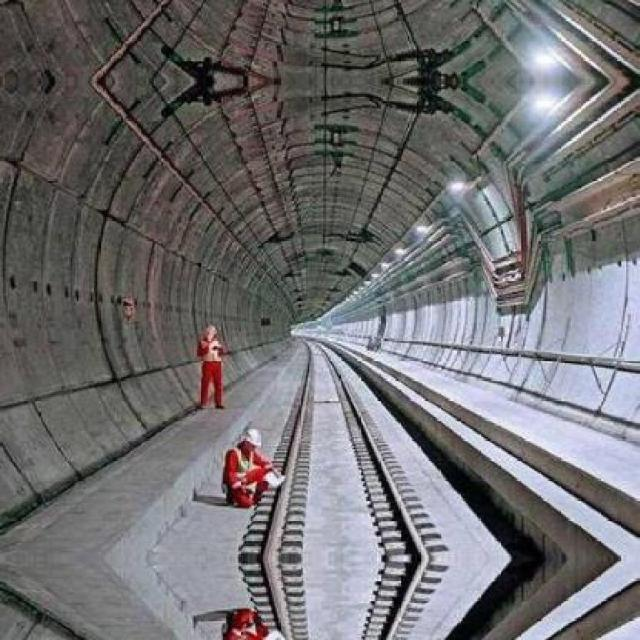helmet: (237, 428, 266, 455)
